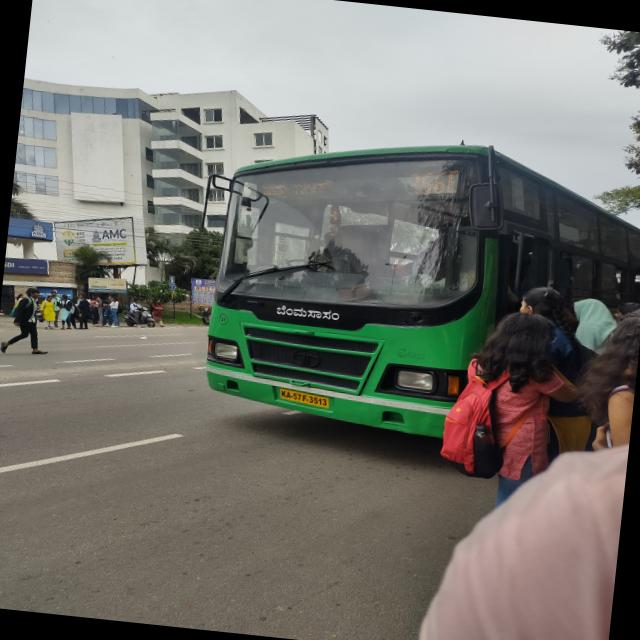bus: (181, 111, 640, 474)
display: (252, 146, 466, 219)
dnumber: (406, 164, 457, 198)
